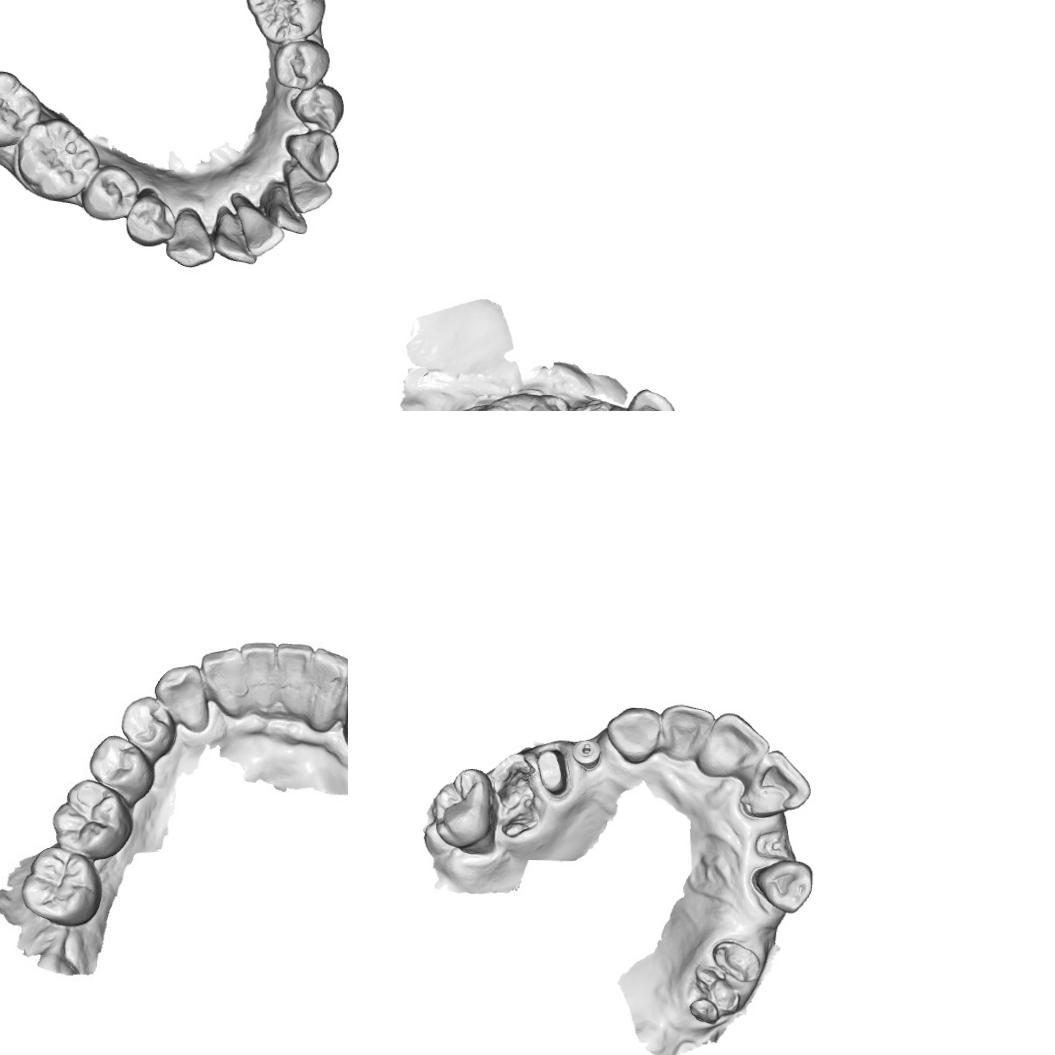canine: (153, 661, 209, 733), (751, 858, 814, 914), (604, 706, 662, 765), (164, 206, 216, 269), (281, 128, 341, 182)
crown: (534, 748, 573, 800)
implant_minus: (571, 737, 602, 772)
incisor: (739, 750, 812, 820), (696, 710, 770, 778), (308, 645, 348, 727), (660, 704, 716, 762), (234, 200, 285, 260), (203, 649, 244, 715), (264, 188, 314, 240), (210, 211, 258, 265), (277, 646, 314, 714), (241, 642, 279, 707), (286, 169, 334, 217), (617, 386, 680, 411)
molar: (13, 115, 98, 204), (50, 778, 134, 861), (24, 844, 102, 926), (243, 0, 326, 46), (0, 69, 41, 149)
premolar: (428, 764, 500, 858), (84, 734, 157, 802), (120, 694, 176, 760), (82, 163, 142, 223), (123, 188, 177, 247), (274, 36, 330, 91), (289, 84, 348, 134)
